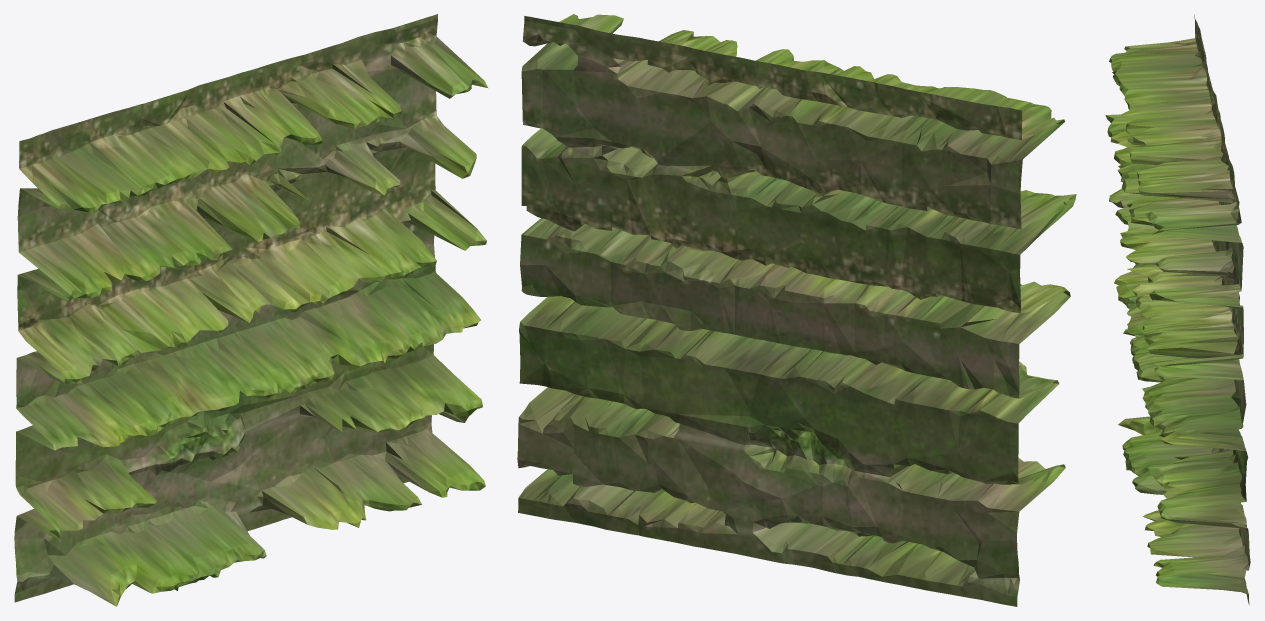
File: map_100_70.obj
3 renders of one model, left to right at view 1: azimuth 30°, elevation 25°; view 2: azimuth 150°, elevation 25°; view 3: azimuth 270°, elevation 25°, orthographic. The views are drawn at different scales.
Parts seen in each view (by area): view 1: grp1; view 2: grp1; view 3: grp1.
Boxes of the visible parts, x1=… form: grp1: x1=14, y1=14, x2=487, y2=606; grp1: x1=517, y1=14, x2=1076, y2=606; grp1: x1=1105, y1=14, x2=1250, y2=605.
Size of the model in its own units: 10 by 10 by 3.25.
Materials: 1 (1 with a texture image).
